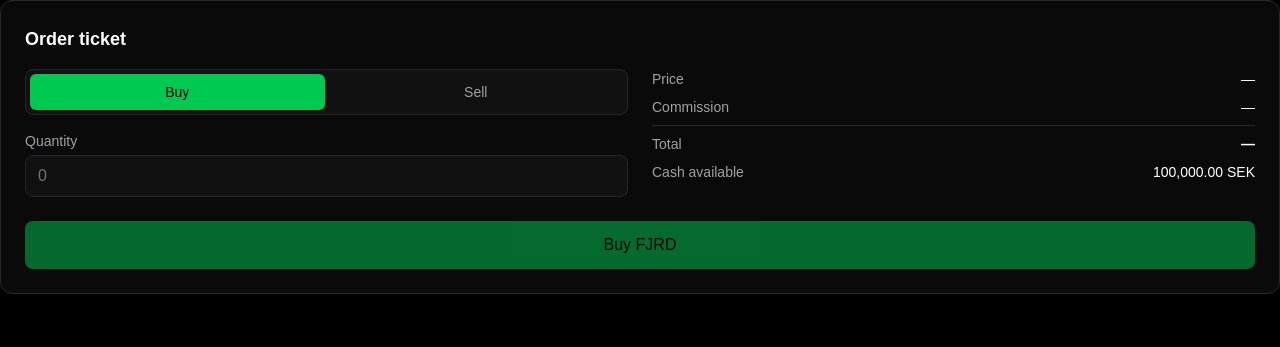
Test case: OrderTicket › shows 422 INSUFFICIENT_FUNDS as "Not enough cash for this order." inline and as an error toast
Expected: the button "Buy FJRD" is shown, [25,221,1255,269]
In the number field labelled "Quantity": (326, 176) [25,155,628,197], type "10"
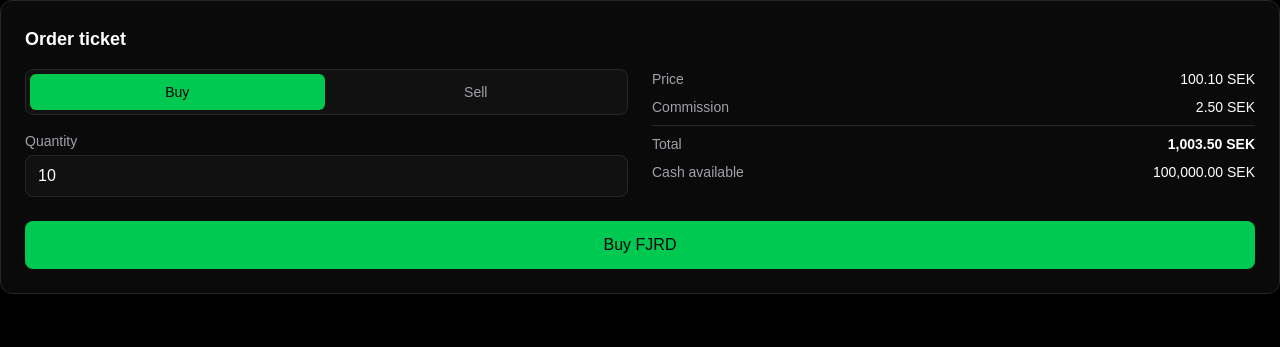
Click the button "Buy FJRD": (640, 245) [25,221,1255,269]
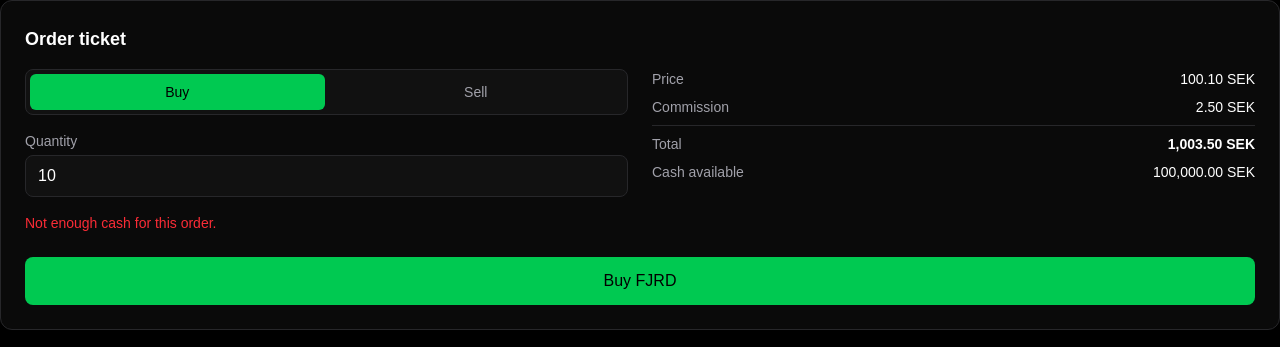
Result: the button "Buy FJRD" is enabled at [25,257,1255,305]
Result: the message reads "Not enough cash for this order." at [25,215,216,231]
